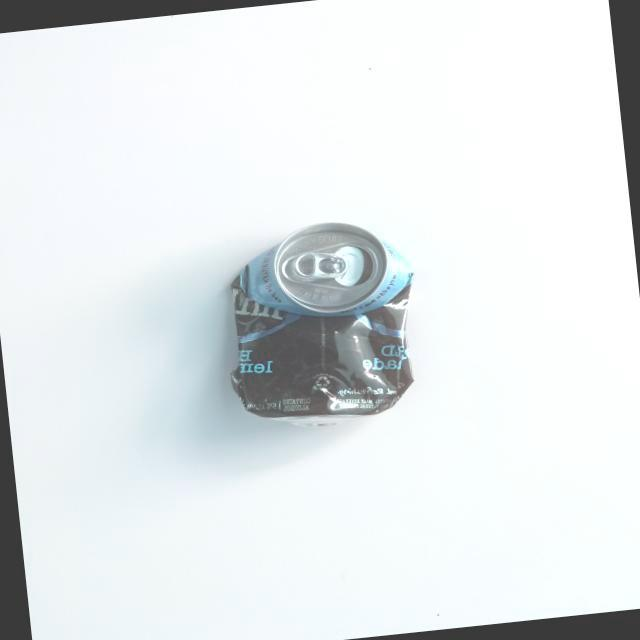metal: (200, 213, 448, 438)
